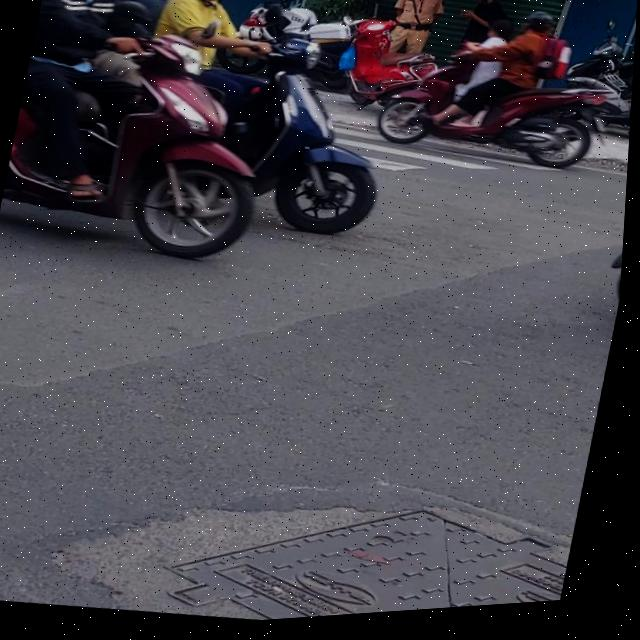motorcycle: (0, 14, 310, 287), (223, 12, 412, 260), (366, 16, 633, 188), (322, 1, 449, 123)
